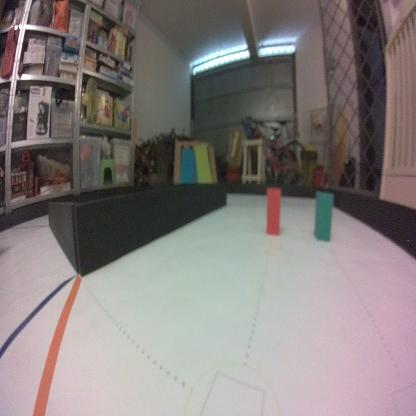green: (314, 190, 335, 243)
red: (266, 188, 281, 236)
